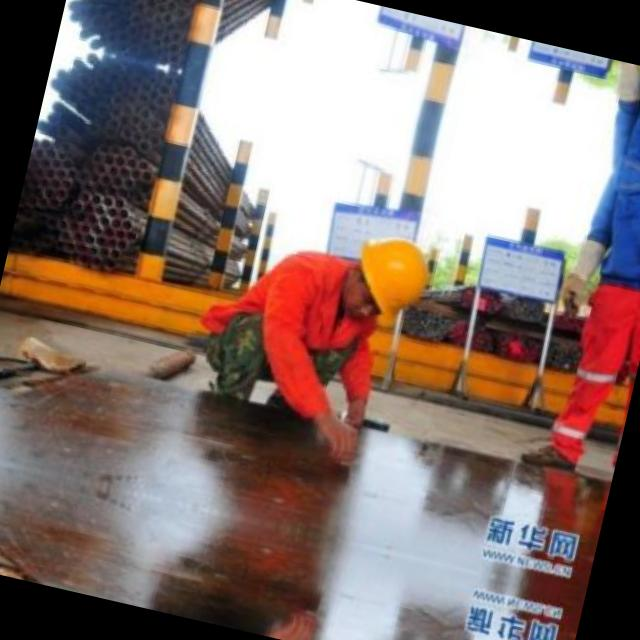helmet: (329, 218, 446, 342)
